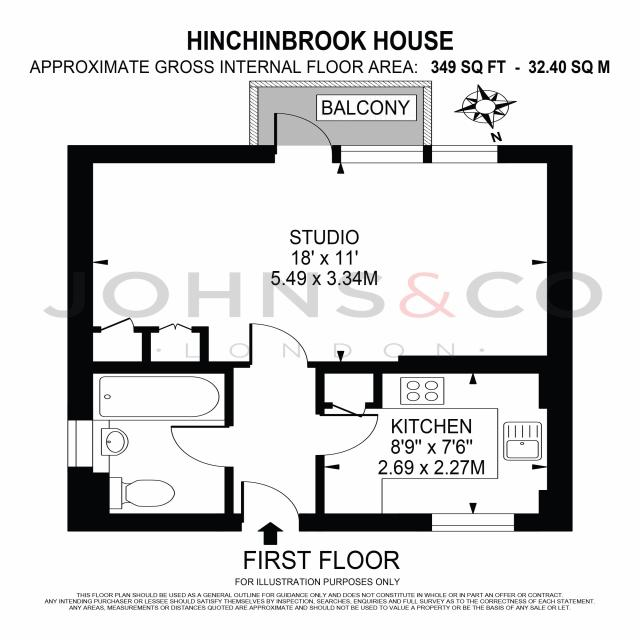DOOR: (240, 480, 303, 532), (273, 112, 334, 164), (314, 413, 380, 458), (248, 322, 311, 368), (169, 425, 234, 469)
ROOM: (67, 112, 574, 376), (315, 355, 573, 532)
WINDOW: (430, 512, 516, 533), (340, 145, 425, 164), (430, 144, 499, 164), (66, 419, 94, 468)
